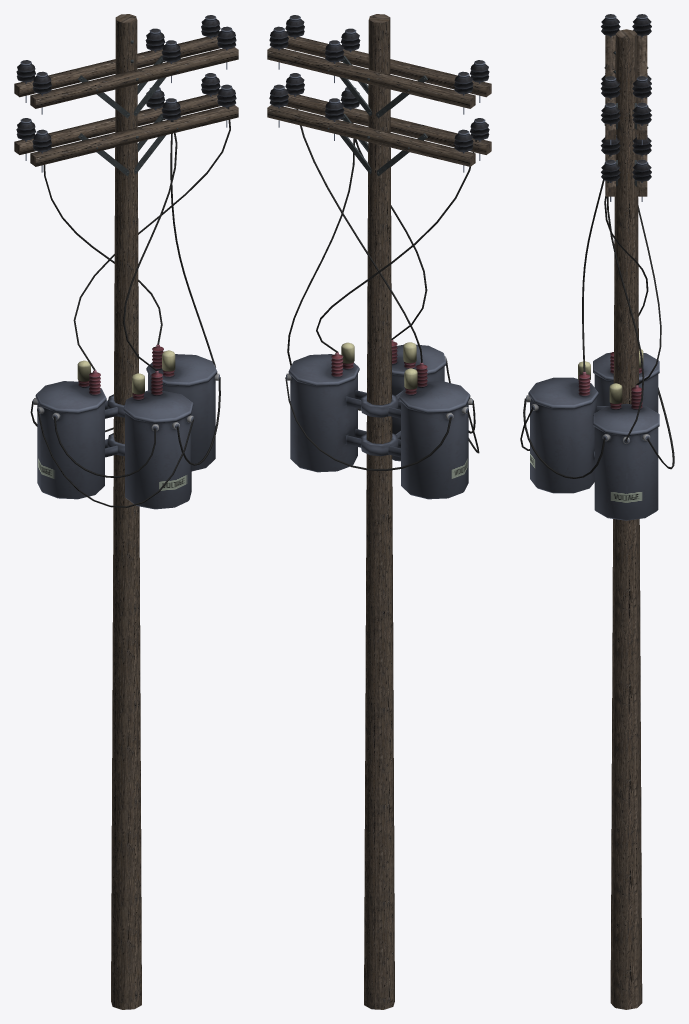
The model's file is pole_wood_e_lod_0.glb.
The picture shows the model from 3 angles, left to right: view 1: azimuth 30°, elevation 25°; view 2: azimuth 150°, elevation 25°; view 3: azimuth 270°, elevation 25°; orthographic projection.
Visible parts, largest first — view 1: pole_wood_e_lod_0; view 2: pole_wood_e_lod_0; view 3: pole_wood_e_lod_0.
Boxes of the visible parts, <box> form: pole_wood_e_lod_0: <box>14,14,238,1009</box>; pole_wood_e_lod_0: <box>267,14,491,1009</box>; pole_wood_e_lod_0: <box>520,14,674,1009</box>.
Size of the model in its own units: 2.2 by 10.2 by 1.47.
2 materials, 2 textured.
